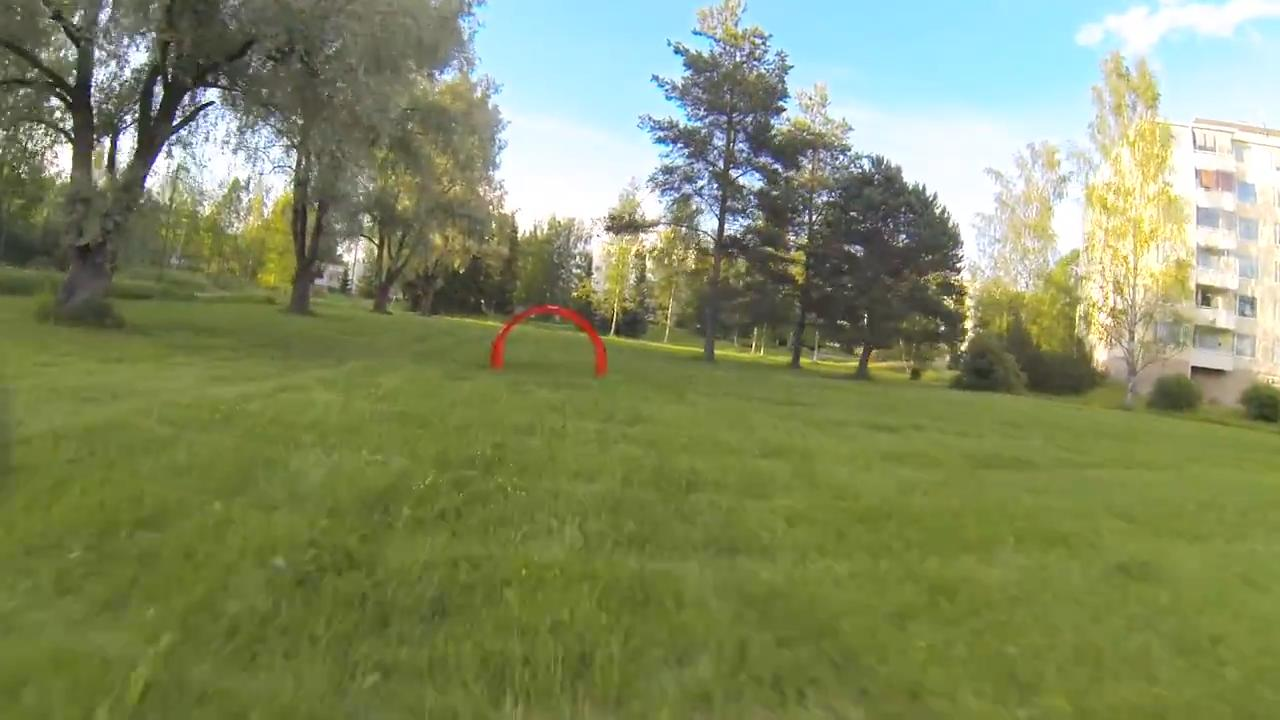gate: (488, 302, 610, 379)
